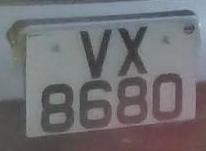0: (149, 71, 185, 126)
6: (74, 77, 119, 133)
8: (33, 75, 79, 138), (114, 71, 150, 133)
V: (74, 21, 115, 82)
X: (114, 19, 154, 81)
